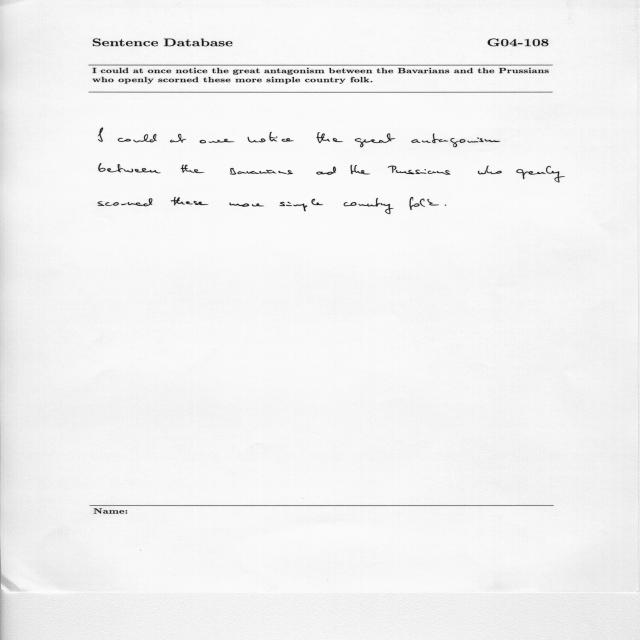word: (411, 134, 500, 147), (344, 198, 394, 214), (516, 166, 565, 182), (99, 164, 161, 174), (355, 134, 395, 148), (388, 166, 450, 175), (280, 199, 324, 211), (248, 132, 294, 142), (230, 168, 293, 175), (98, 199, 153, 207), (409, 197, 439, 210), (118, 134, 157, 142), (316, 132, 343, 143), (171, 197, 208, 205), (478, 166, 502, 175), (181, 165, 205, 173), (316, 166, 336, 175), (351, 165, 371, 174), (170, 134, 186, 143), (200, 139, 235, 143), (230, 203, 264, 207), (98, 128, 103, 142), (445, 205, 446, 206)
